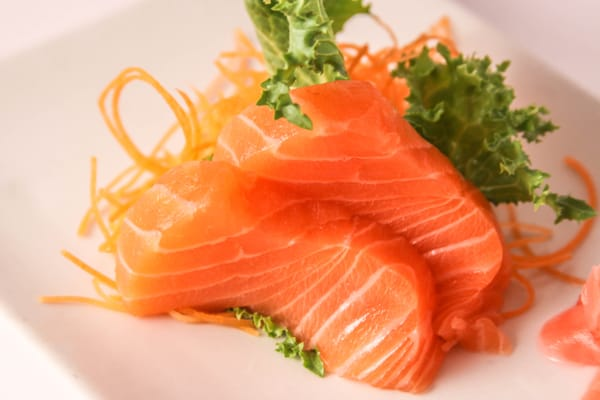curry: (391, 40, 580, 221)
